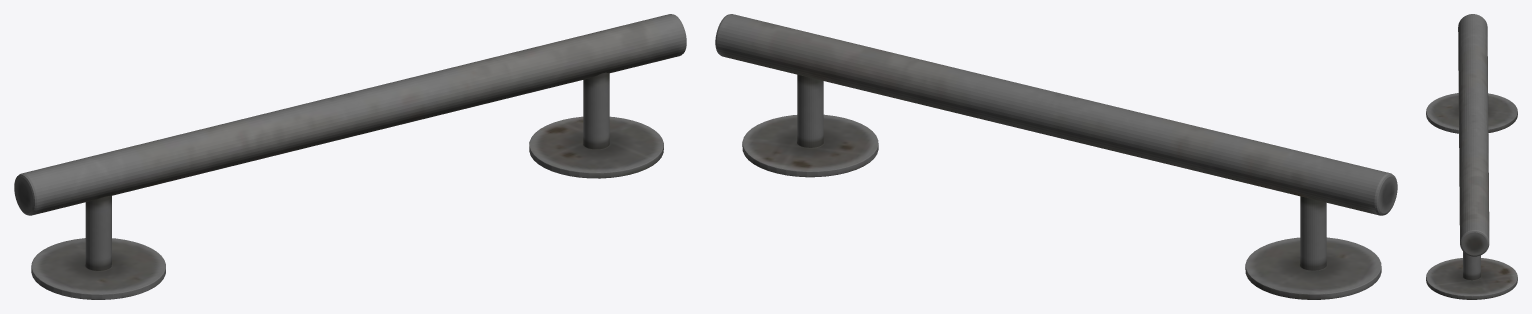
File: corrimao3.fbx
3 views of the same model, side by side, from view 1: azimuth 30°, elevation 25°; view 2: azimuth 150°, elevation 25°; view 3: azimuth 270°, elevation 25° (orthographic). The views are drawn at different scales.
Parts seen in each view (by area): view 1: Park Structure 03.Shape; view 2: Park Structure 03.Shape; view 3: Park Structure 03.Shape.
Boxes of the visible parts, x1,y1,x2,y2 form: Park Structure 03.Shape: [14, 14, 686, 299]; Park Structure 03.Shape: [715, 14, 1397, 299]; Park Structure 03.Shape: [1426, 14, 1517, 299].
Size of the model in its own units: 233 by 38.9 by 41.52.
Materials: 1 (1 with a texture image).
